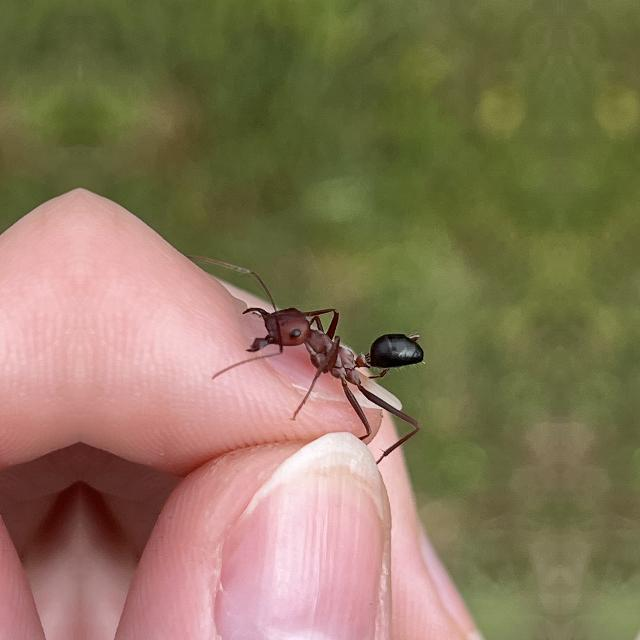Cataglyphis: (232, 263, 438, 435)
